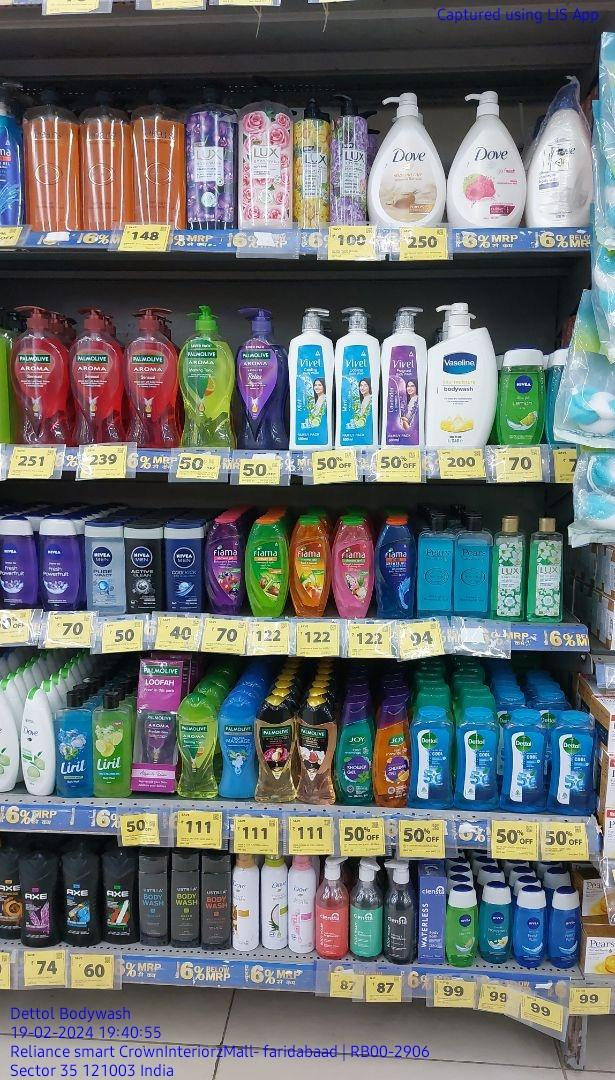Dettol_Bodywash_Cool: (550, 710, 597, 814), (502, 710, 546, 812), (457, 709, 499, 810), (412, 709, 453, 809)
Dove_Refreshing_Body_Wash_250ML: (21, 694, 55, 796)
Fiama_Shower_Gel_Lemongrass_and_Jojoba_250ML: (246, 519, 289, 617)
Fiama_Shower_Gel_Patchouli_and_Macadamia_250ML: (334, 517, 374, 617)
Fiama_Shower_Gel_Peach_and_Avocado_250ML: (292, 517, 330, 617)
Joy_Shower_Gel_Mandarin_and_Lemongrass_250ML: (375, 698, 408, 808)
Joy_Shower_Gel_Mint_and_Eucalyptus_250ML: (339, 698, 372, 805)
Liril_Cooling_Mint_Body_Wash_250ML: (58, 693, 93, 797)
Liril_Lime_and_Tea_Tree_Oil_Body_Wash_250ML: (96, 692, 131, 798)
Lux_Body_Wash_Skin_Detox_Freesia_Scent_and_Alove_Vera_245ML: (529, 517, 564, 623), (495, 517, 524, 621)
Nivea_Shower_Gel_Frangipani_and_Oil_250ML: (481, 884, 512, 964)
Nivea_Shower_Gel_Lemon_and_Oil_250ML: (500, 345, 545, 443), (446, 890, 479, 966)
Palmolive_Aroma_Moments_Feel_The_Massage_Shower_Gel_250ML: (221, 701, 253, 796)
Palmolive_Aroma_Morning_Tonic_Shower_Gel_250ML: (179, 702, 218, 797)
Palmolive_Luminous_Oils_Invigorating_Macadamia_Oil_With_Peony_250ML: (256, 696, 296, 803)
Palmolive_Luminous_Oils_With_White_Orchid_Shower_Gel_250ML: (299, 696, 336, 804)
Pears_Pure_Glycerin_and_Mint_Extracts_Body_Wash_250ML: (456, 513, 492, 618), (419, 513, 453, 615)
